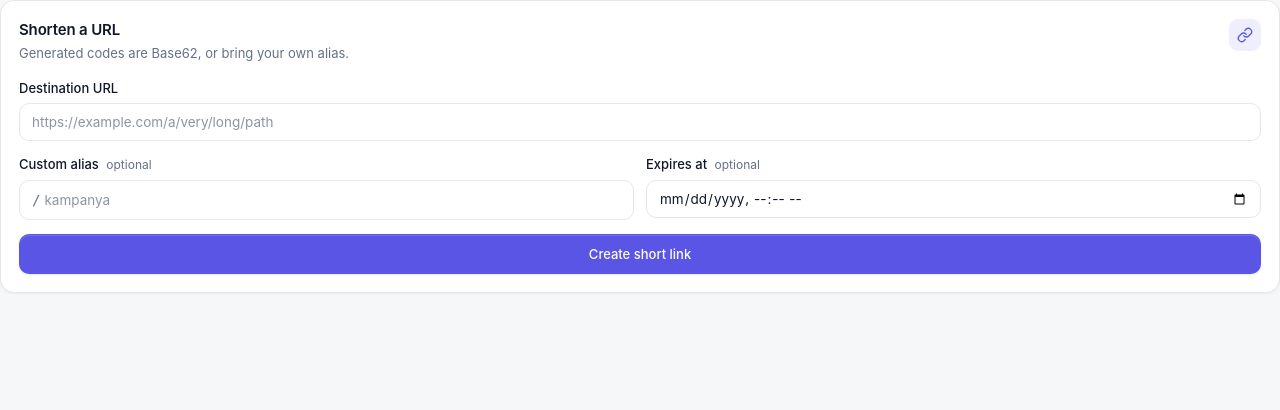
CreateLinkForm › submits url and alias and shows the created short link
Type "https://example.com" into the field labelled "Destination URL".
click(640, 122); type("https://example.com")  # box [19, 103, 1261, 141]
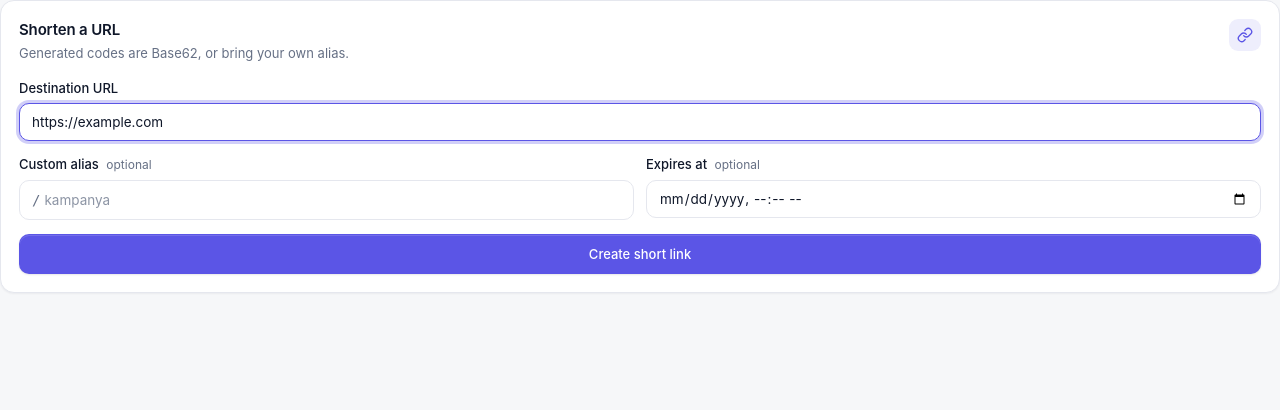
Type "launch" into the field labelled "Custom alias optional".
click(337, 200); type("launch")  # box [40, 181, 633, 219]
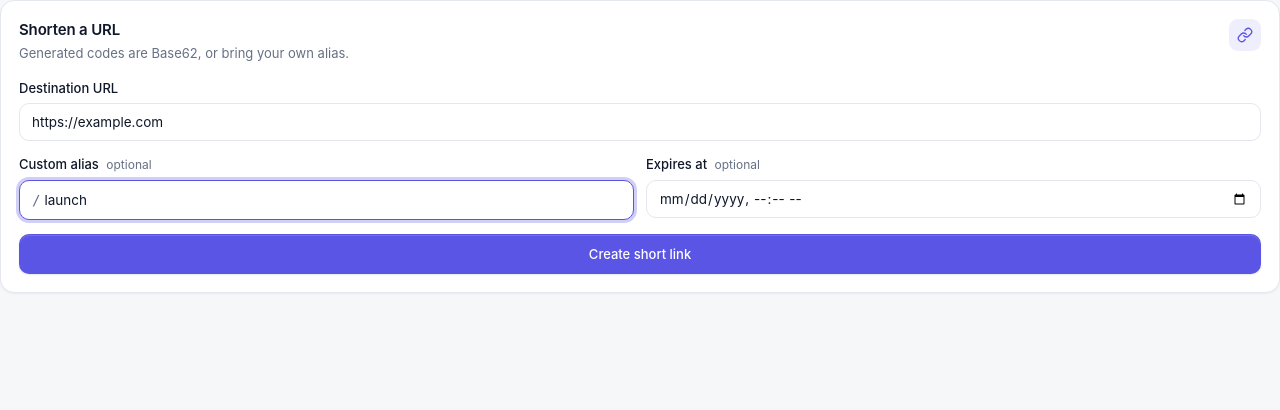
Click the button "Create short link".
click(640, 254)  # box [19, 234, 1261, 274]
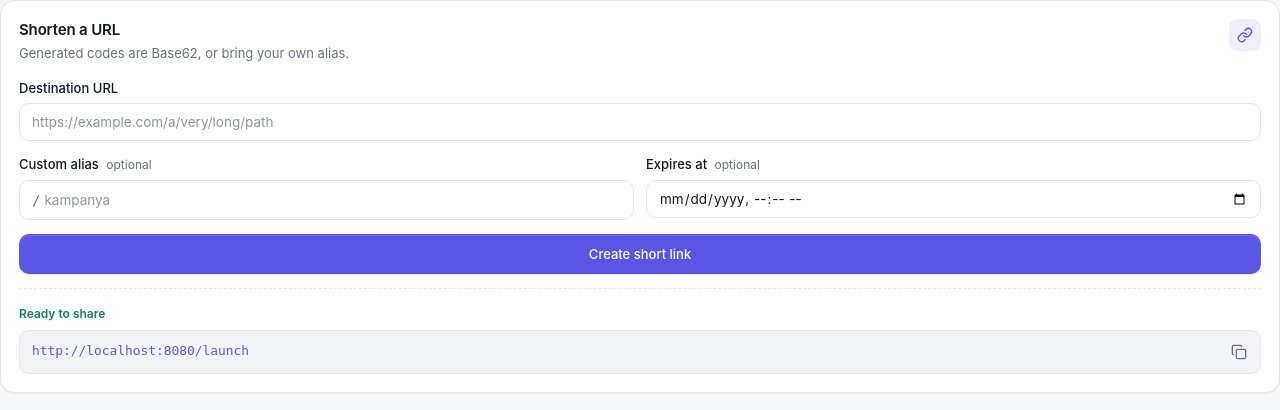
Result: the message shows "http://localhost:8080/launch" at [32, 342, 249, 361]
Result: the field labelled "Destination URL" is empty at [19, 103, 1261, 141]
